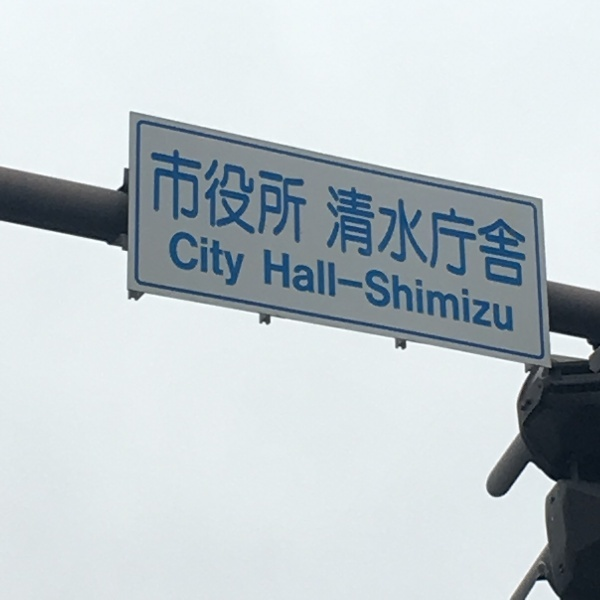text: (337, 182, 352, 298), (353, 182, 368, 298), (369, 182, 384, 298), (385, 182, 400, 298), (401, 182, 416, 298), (417, 182, 432, 298), (433, 182, 448, 298), (449, 182, 464, 298), (465, 182, 480, 298), (481, 182, 496, 298), (497, 182, 512, 298), (161, 142, 176, 251), (177, 142, 192, 251), (193, 142, 208, 251), (209, 142, 224, 251), (225, 142, 240, 251), (241, 142, 256, 251), (257, 142, 272, 251), (273, 142, 288, 251), (289, 142, 304, 251), (322, 182, 336, 298), (513, 182, 526, 298), (273, 244, 288, 339), (289, 244, 304, 339), (305, 244, 320, 339), (321, 244, 336, 339), (337, 244, 352, 339), (353, 244, 368, 339), (369, 244, 384, 339), (385, 244, 400, 339), (401, 244, 416, 339), (417, 244, 432, 339), (433, 244, 448, 339), (449, 244, 464, 339), (465, 244, 480, 339), (481, 244, 496, 339), (497, 244, 512, 339), (259, 244, 272, 339), (149, 142, 160, 251), (177, 229, 192, 293), (193, 229, 208, 293), (209, 229, 224, 293), (225, 229, 240, 293), (305, 142, 310, 251), (168, 229, 176, 293), (241, 229, 249, 293), (513, 244, 516, 339)
